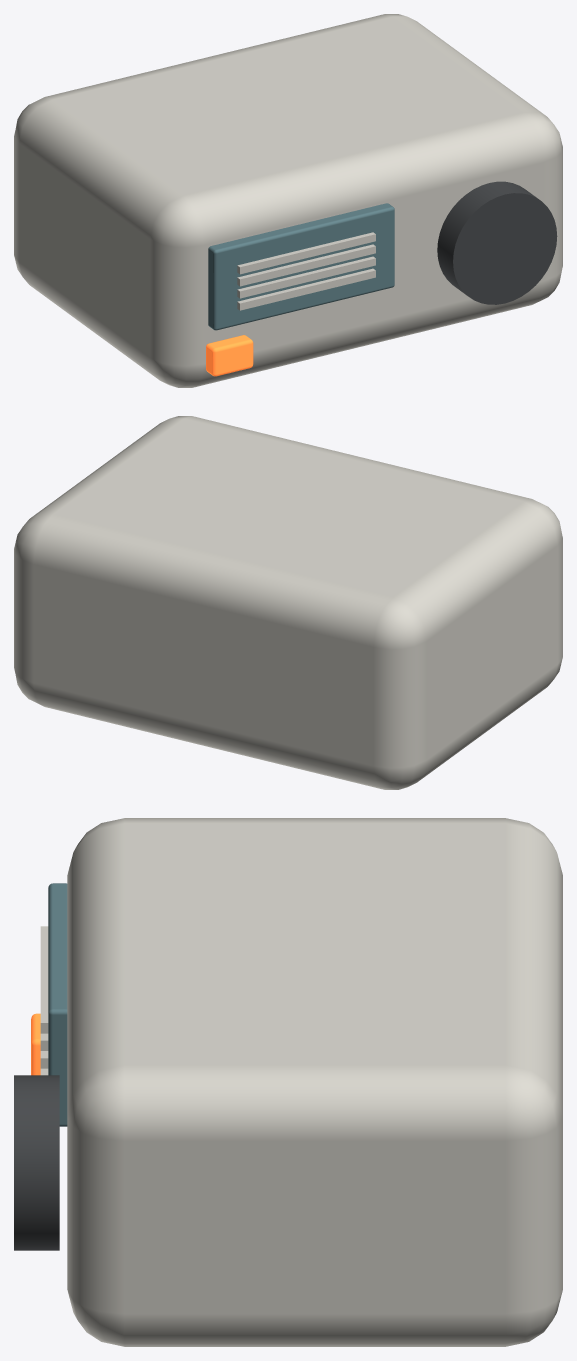
File: camera-repair-and-darkroom-laboratory-enlarger-timer-c-928cb795__31809.glb
3 views of the same model, one above another, from view 1: azimuth 30°, elevation 25°; view 2: azimuth 150°, elevation 25°; view 3: azimuth 270°, elevation 25° (orthographic). The views are drawn at different scales.
Parts seen in each view (by area): view 1: enlarger-timer-console; view 2: enlarger-timer-console; view 3: enlarger-timer-console.
Boxes of the visible parts, x1,y1,x2,y2 form: enlarger-timer-console: (14,14,562,387); enlarger-timer-console: (14,416,562,789); enlarger-timer-console: (14,818,562,1346).
Size of the model in its own units: 0.18 by 0.08 by 0.144.
